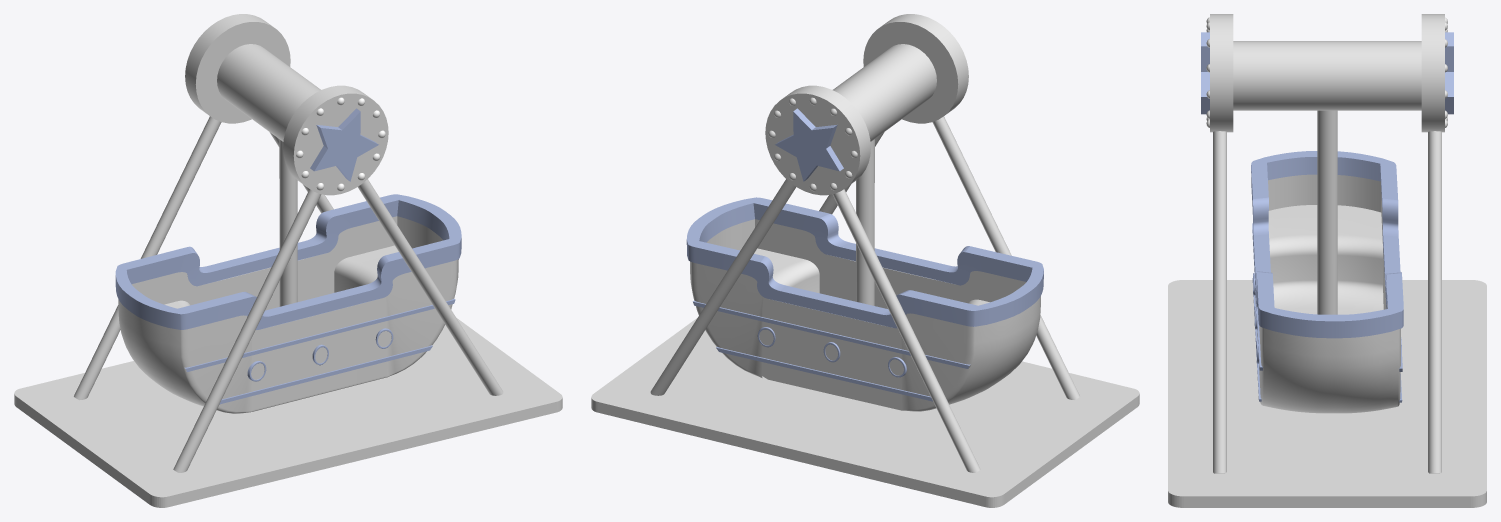
Rendered from Swing.glb.
The picture shows the model from 3 angles, left to right: view 1: azimuth 30°, elevation 25°; view 2: azimuth 150°, elevation 25°; view 3: azimuth 270°, elevation 25°; orthographic projection. The views are drawn at different scales.
Visible parts, largest first — view 1: Cylinder.016, Cube.002, Cylinder.025, Cylinder.038, Star03, Light03; view 2: Cylinder.016, Cube.002, Cylinder.025, Cylinder.038, Star04; view 3: Cube.002, Cylinder.016, Cylinder.025, Cylinder.038, Star04, Star03.
Part boxes in pixels (x1,y1,x2,y2): Cylinder.016: (115,139,461,413); Cube.002: (14,317,562,507); Cylinder.025: (74,14,503,472); Cylinder.038: (217,44,320,141); Star03: (310,108,378,181); Light03: (296,97,385,191); Cylinder.016: (686,139,1043,411); Cube.002: (591,317,1139,507); Cylinder.025: (650,14,1079,472); Cylinder.038: (833,44,936,141); Star04: (775,108,843,181); Cube.002: (1168,280,1486,507); Cylinder.016: (1251,110,1403,413); Cylinder.025: (1210,14,1444,473); Cylinder.038: (1233,41,1421,110); Star04: (1445,32,1453,114); Star03: (1201,32,1209,114).
Size of the model in its own units: 2 by 1.63 by 1.24.
